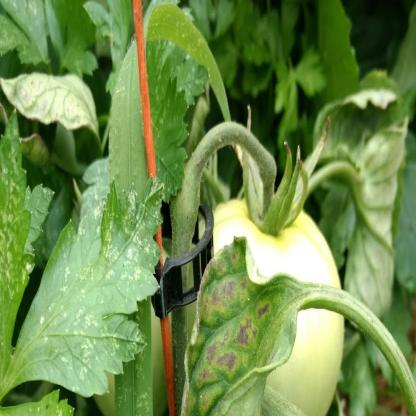tomato leaf mosaic virus: (10, 178, 162, 398)
